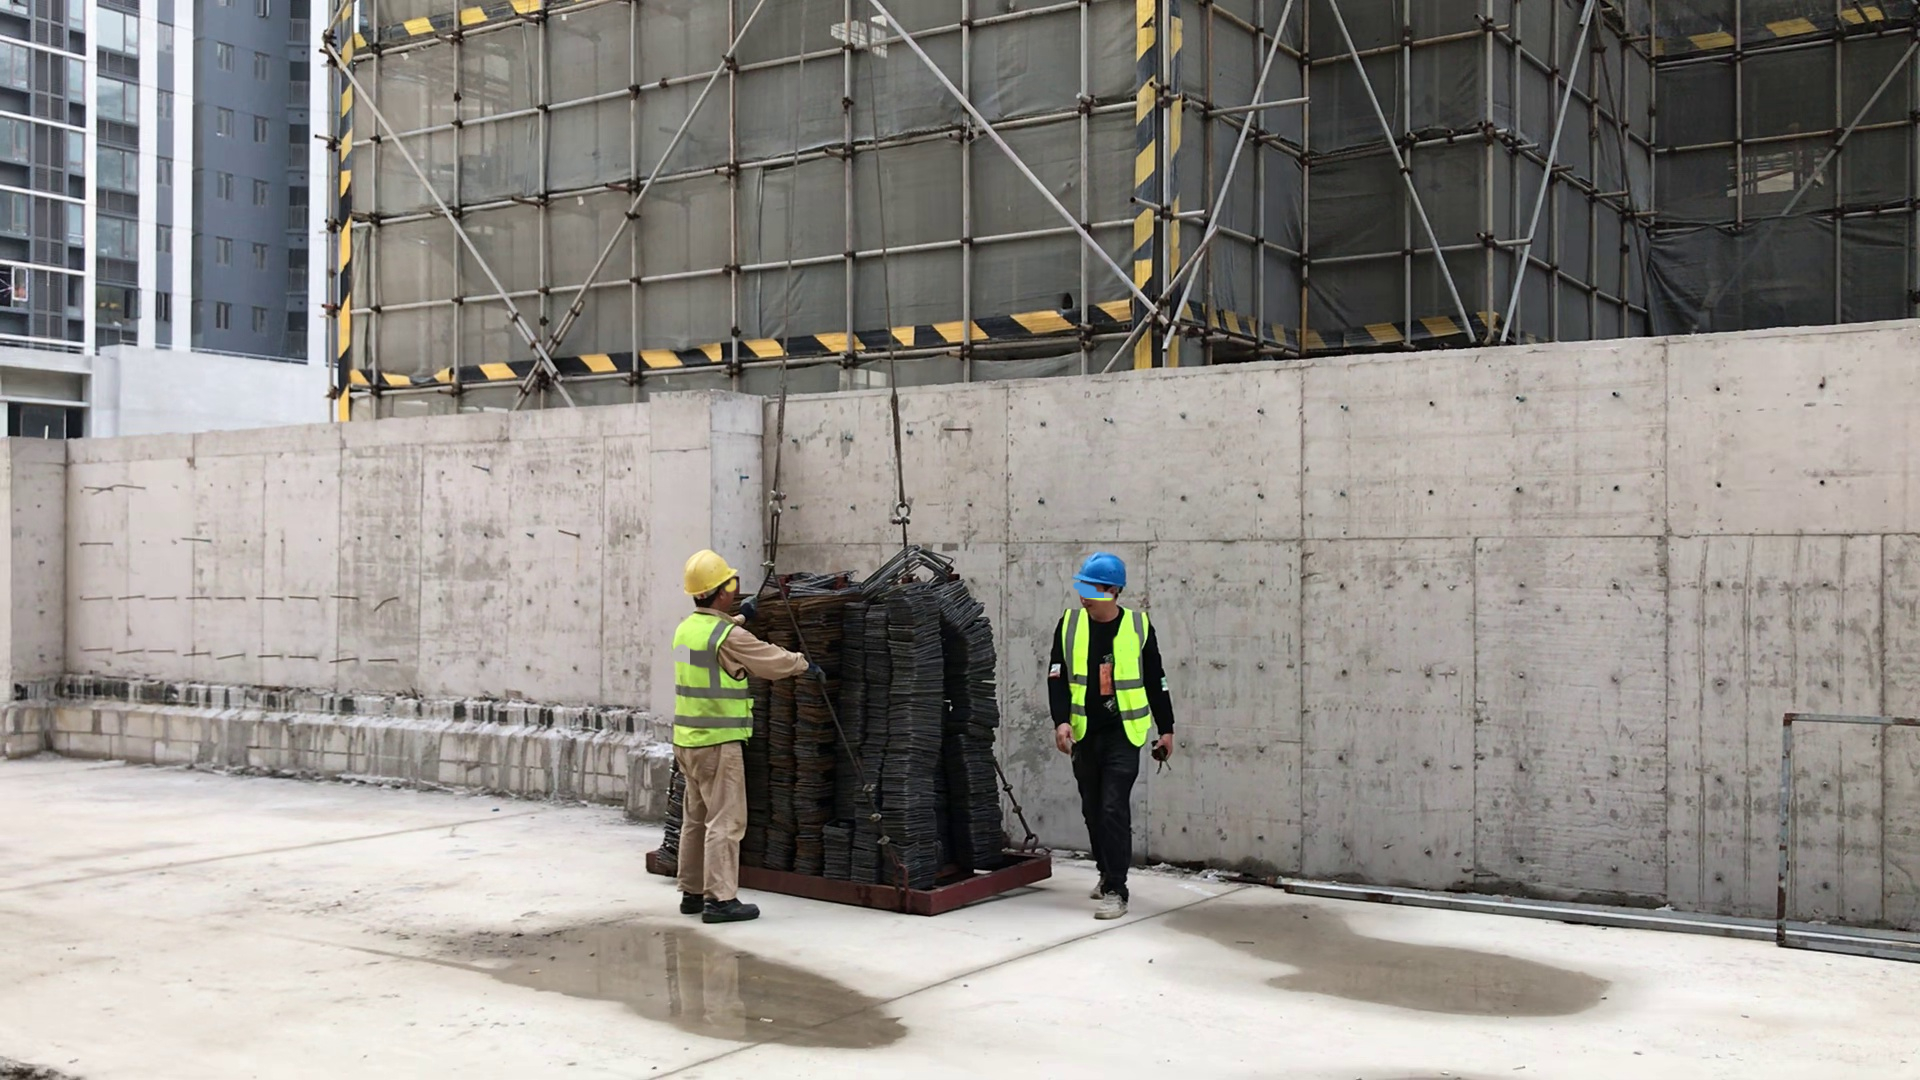helmet: (675, 547, 761, 602), (1067, 539, 1136, 590)
person: (1044, 531, 1204, 937), (659, 548, 792, 930)
vest: (1056, 605, 1167, 740), (666, 621, 767, 744)
